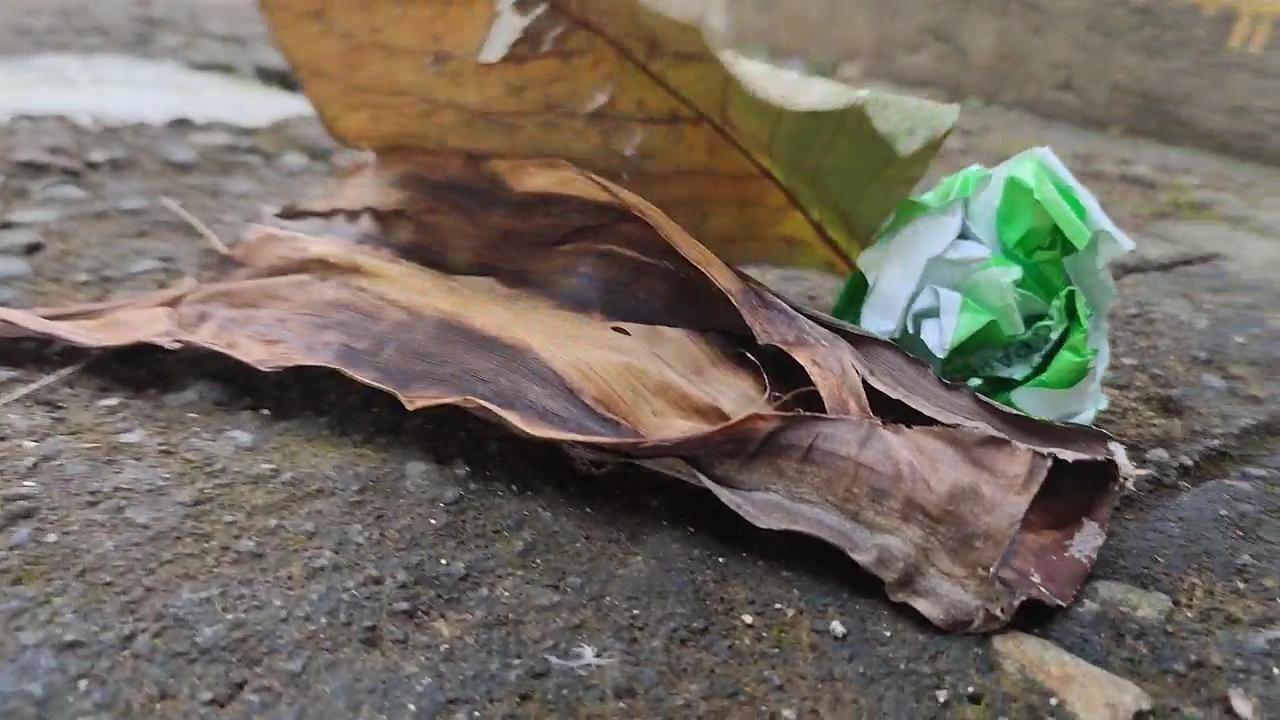Paper: (835, 142, 1132, 432)
